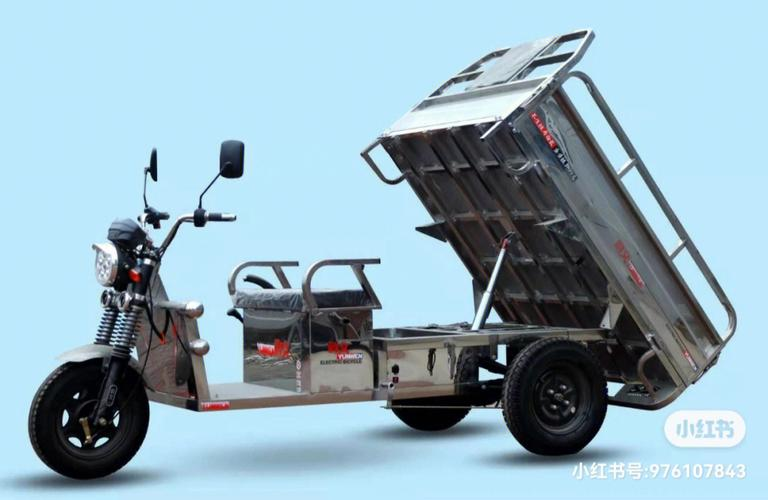empty: (33, 12, 733, 493)
